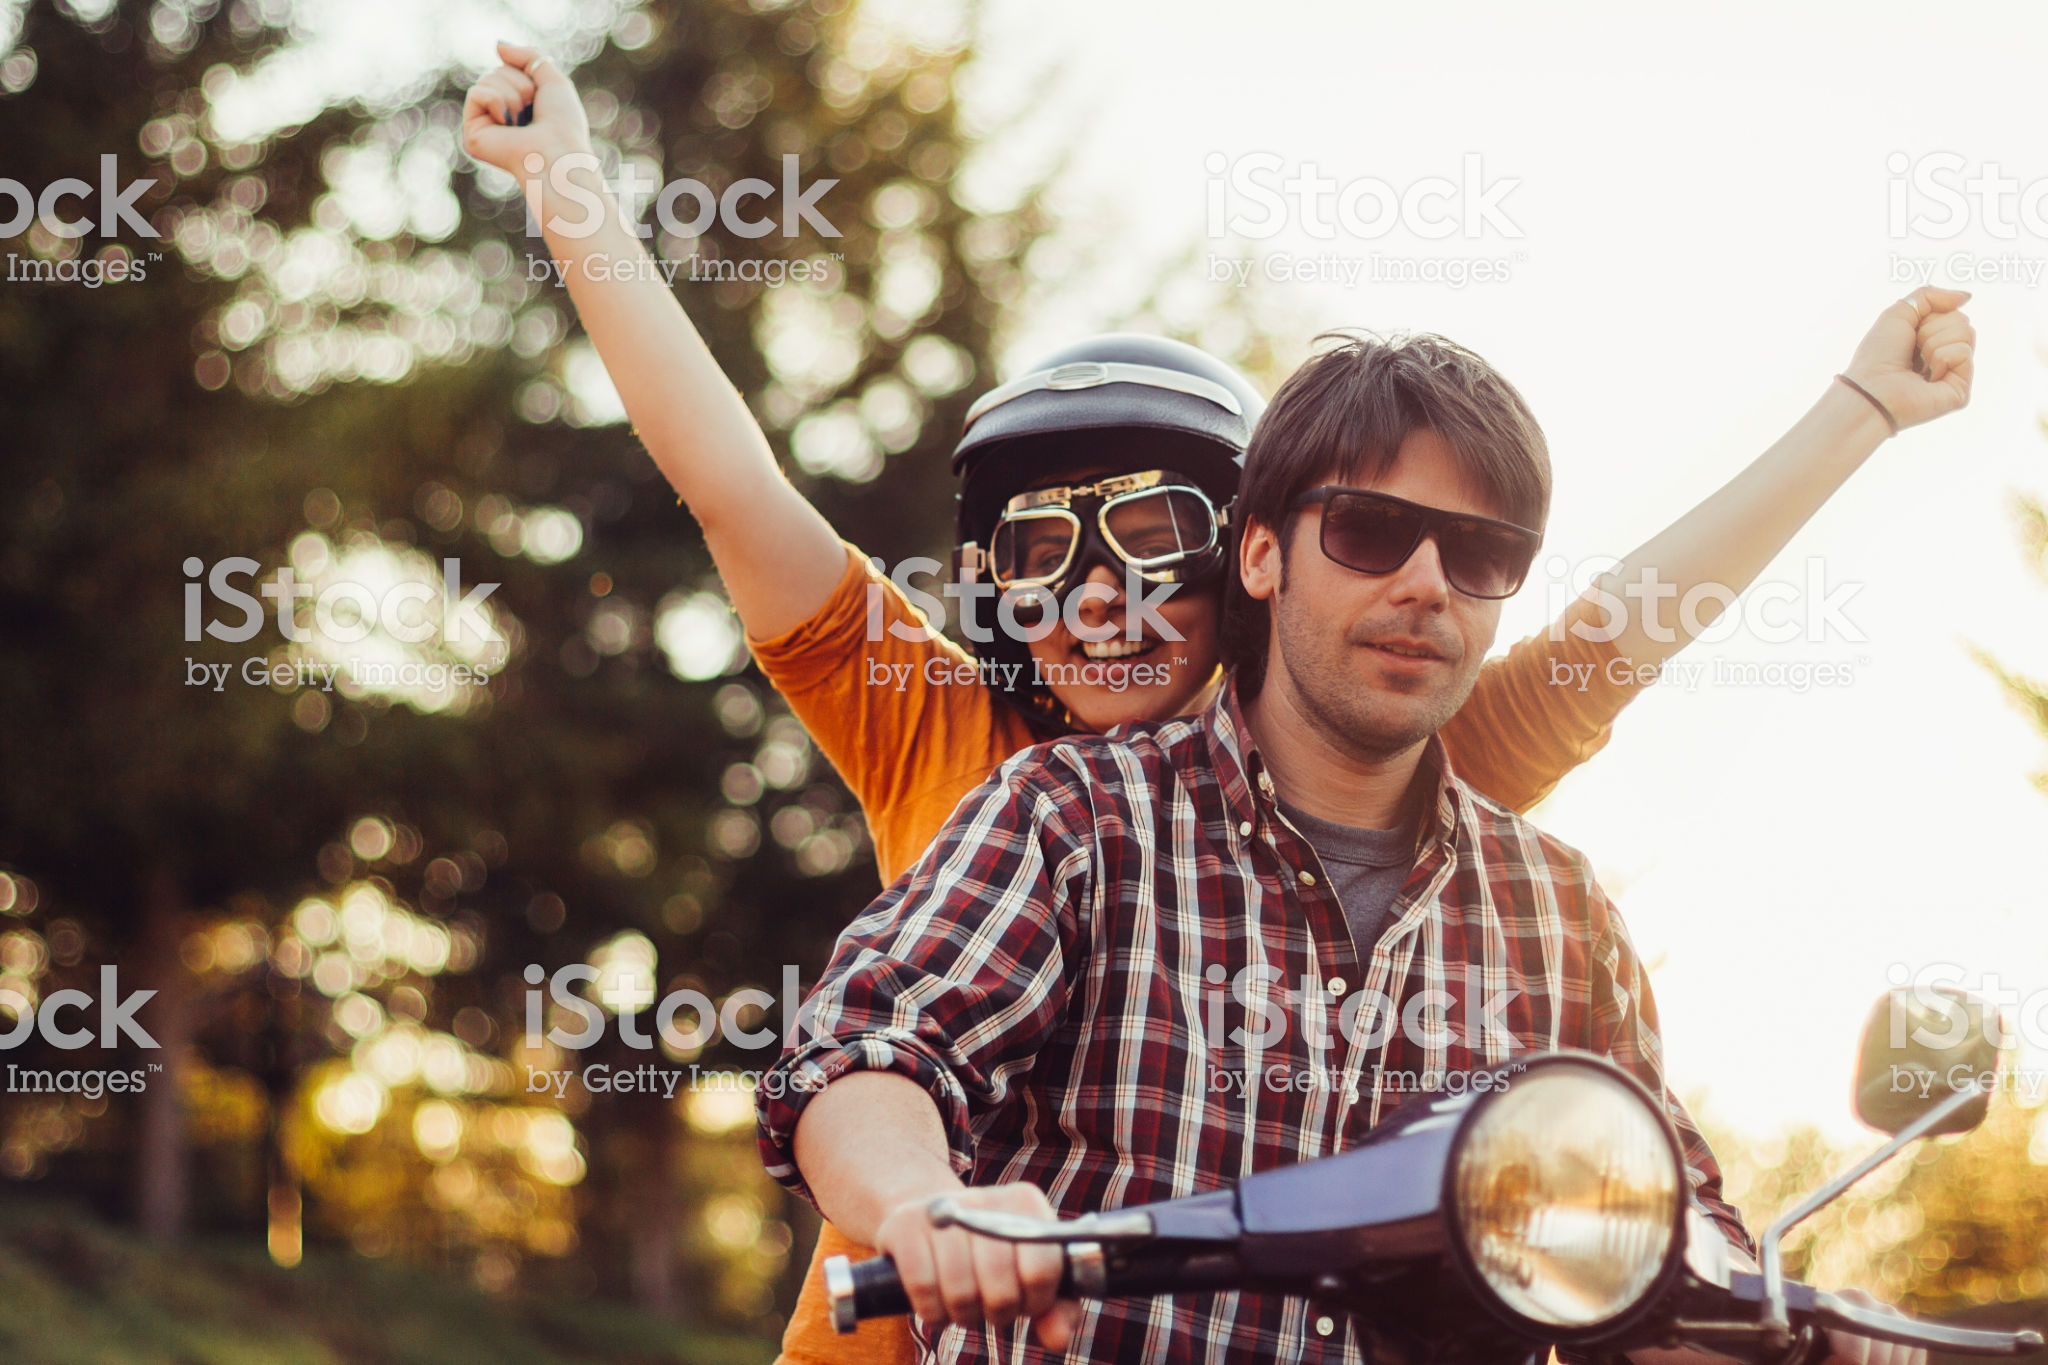helmet: (939, 311, 1255, 532)
